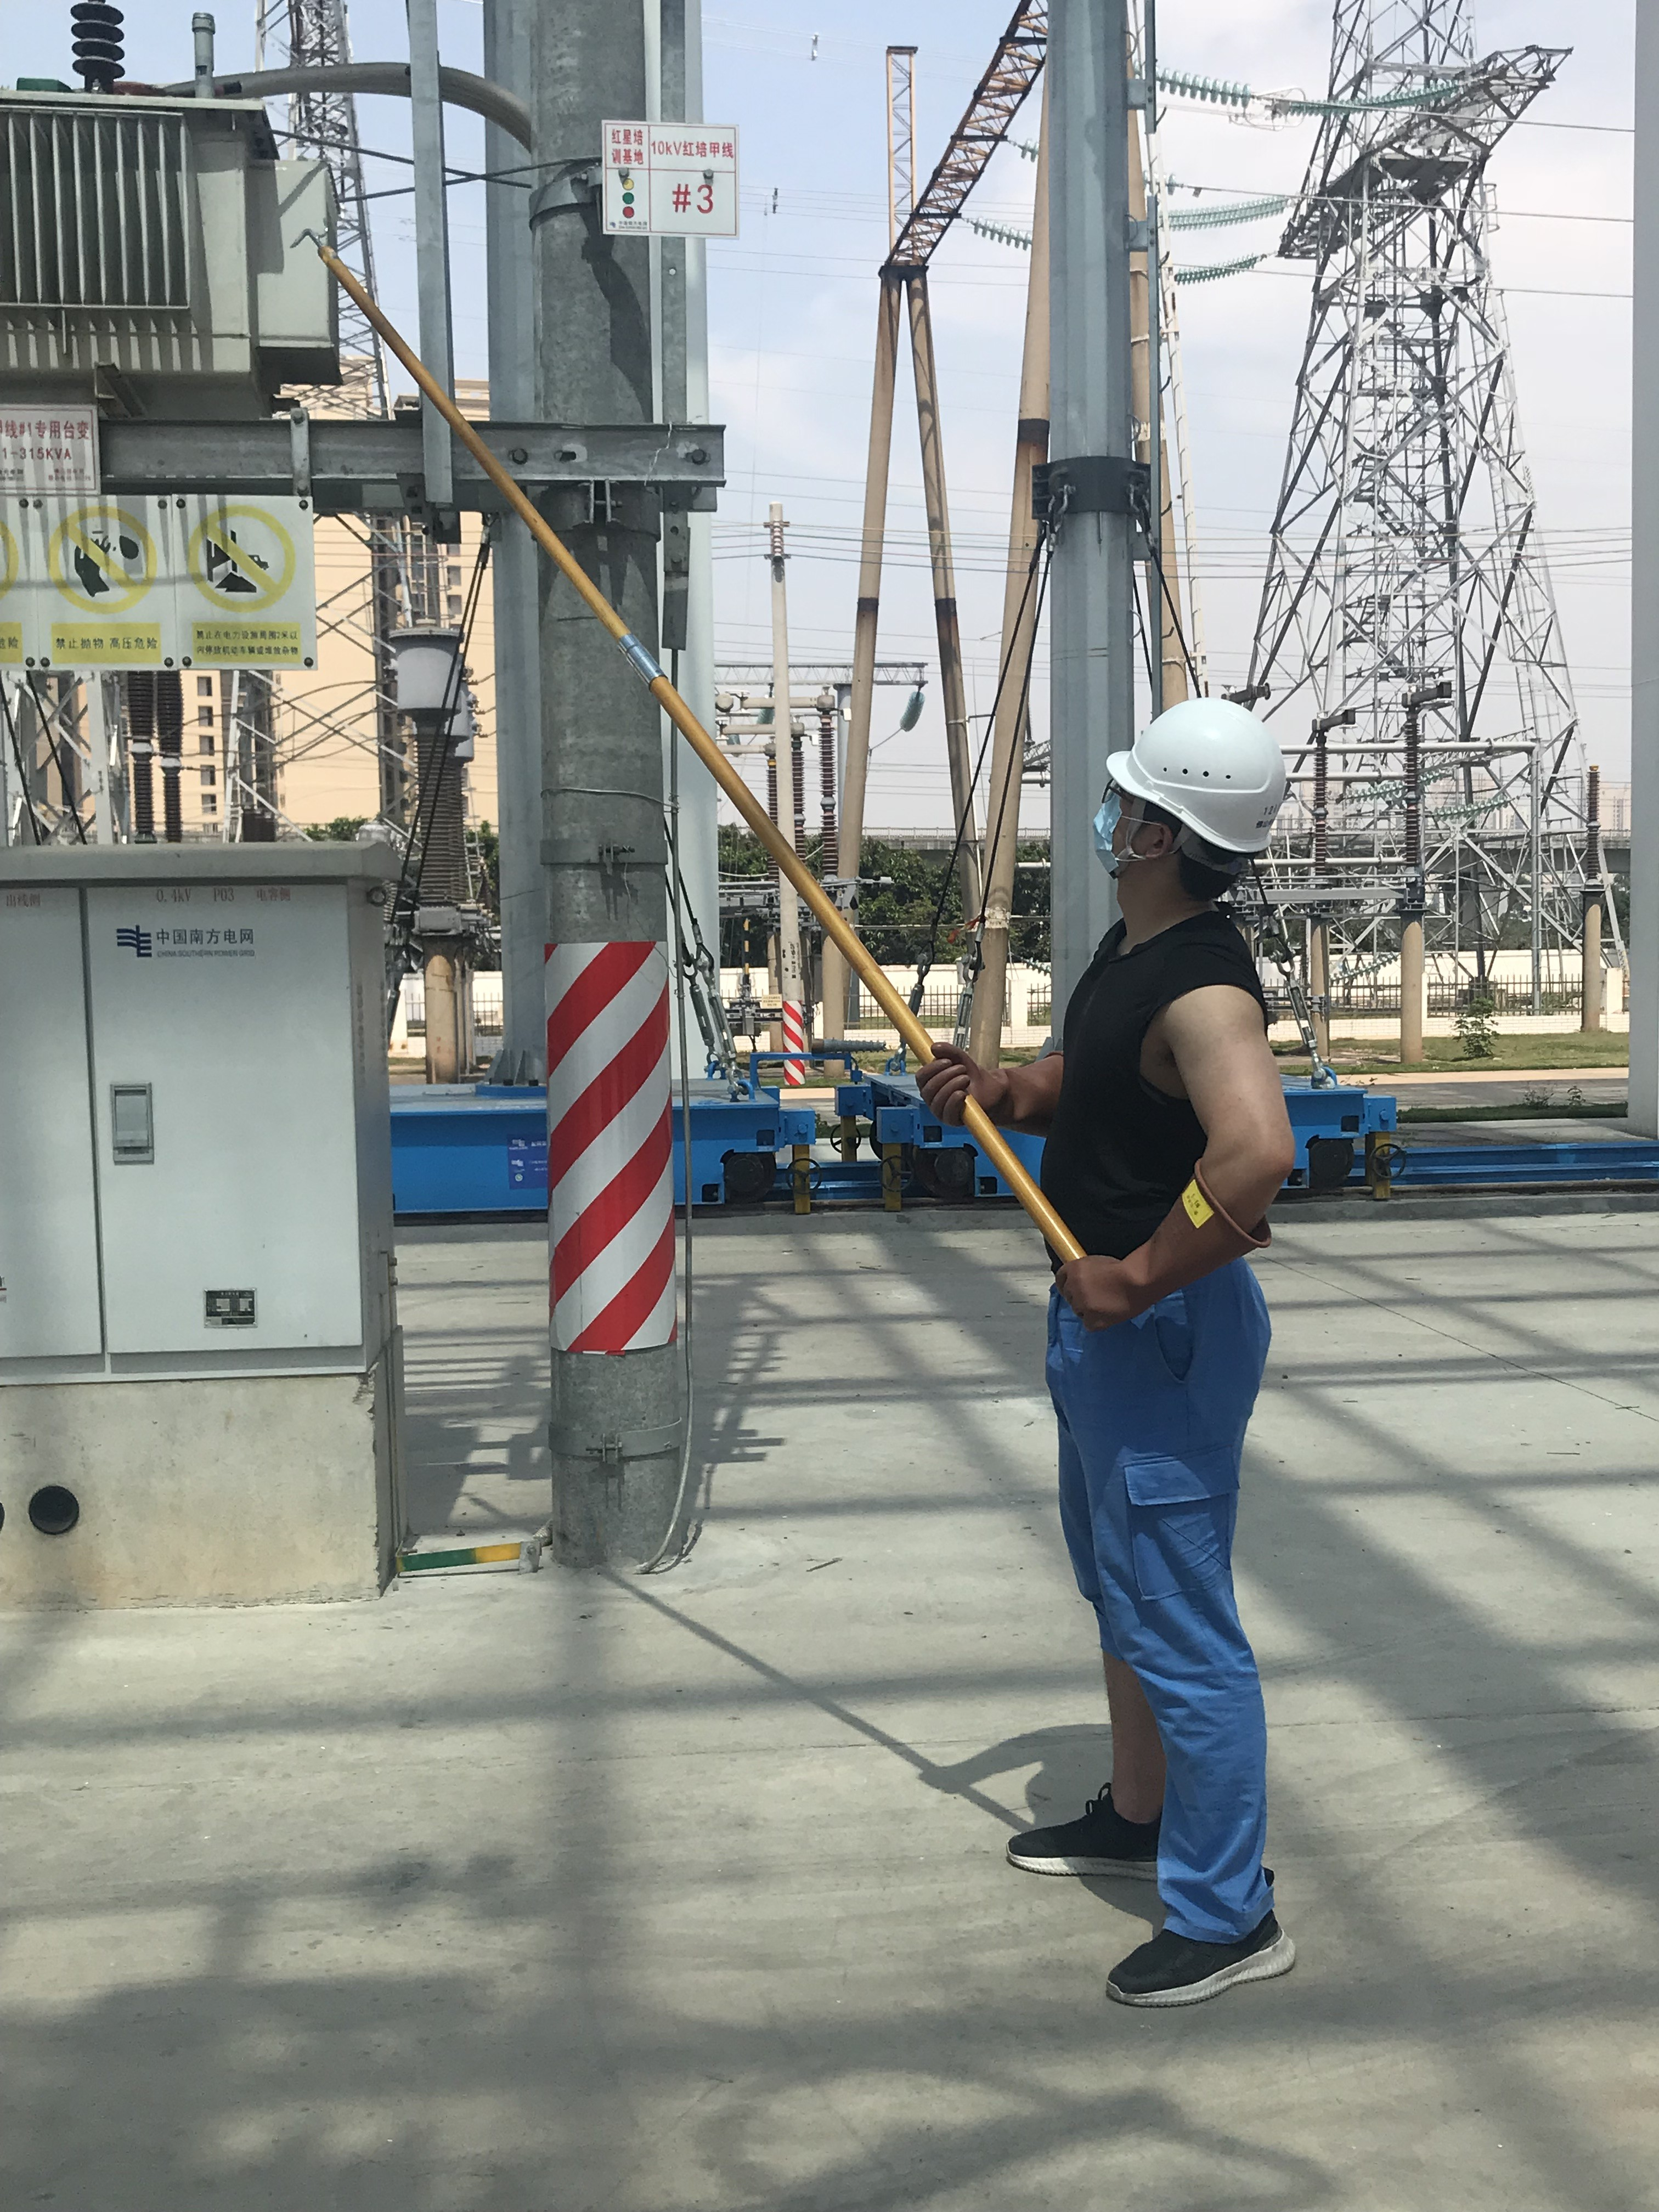downsuit: (1021, 1264, 1323, 1966)
upcloth: (1028, 892, 1312, 1291)
wrongbottom: (1066, 1609, 1202, 1864)
